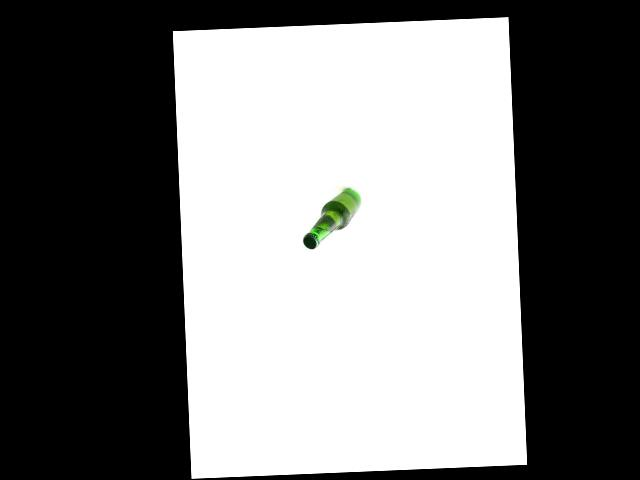beer: (300, 188, 363, 249)
